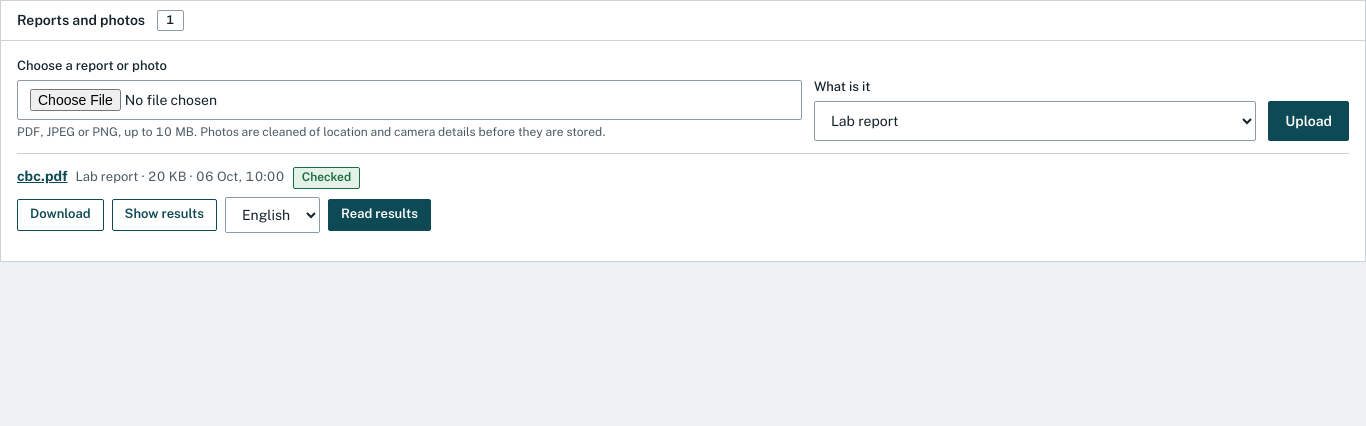
Scenario: reading results and verifying rows › reads in the chosen language and shows the rows as copied, with a clear "not interpreted" notice
Select "Hindi" in the dropdown named "Language of the report" at (273, 215), box [225,197,320,233]
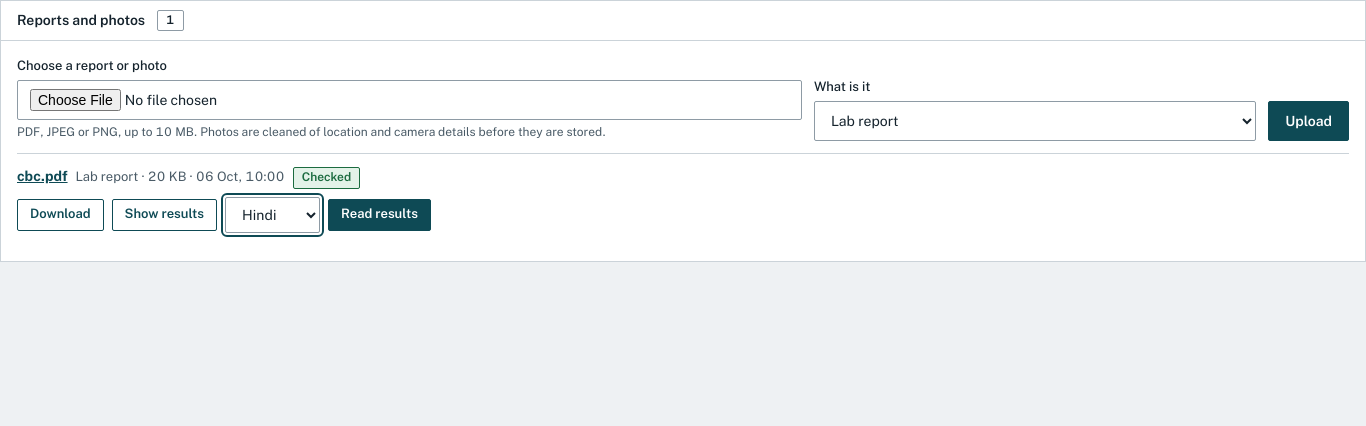
Click the button "Read results".
click(380, 215)  # box [328,199,431,231]
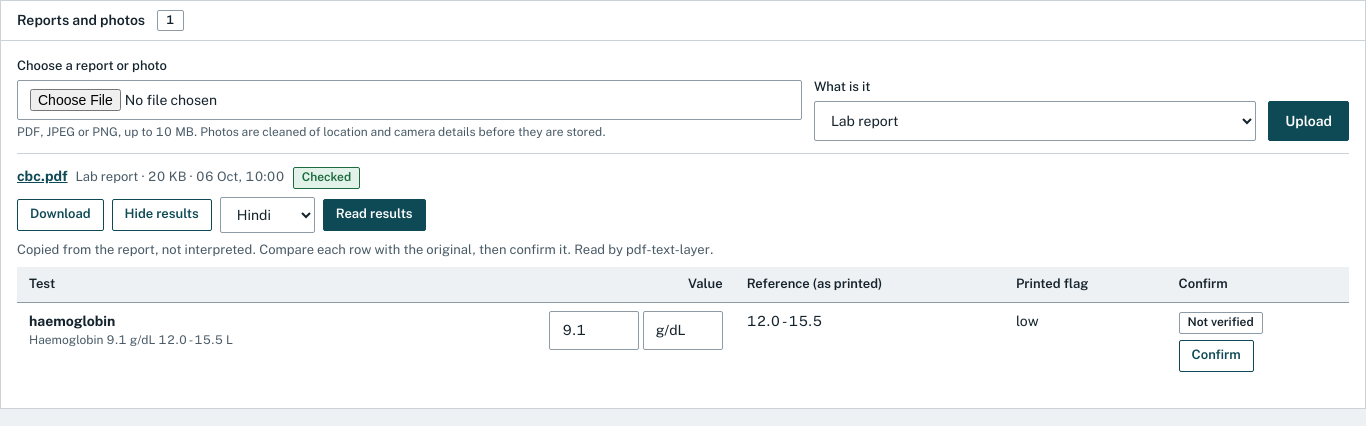
Result: the text "not interpreted" is shown at [17,242,626,257]
Result: the text "haemoglobin" is shown at [29,313,115,329]
Result: the text "12.0 - 15.5" is shown at [735,303,1004,380]
